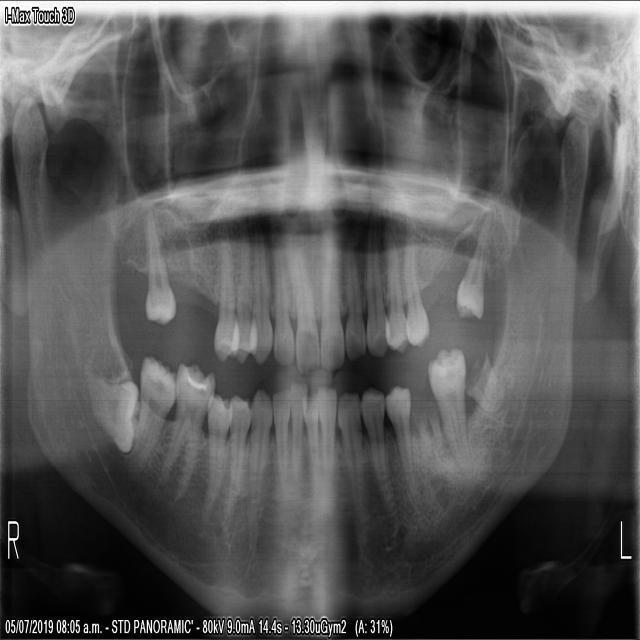LCD: (334, 382, 366, 539)
LCU: (361, 216, 389, 361)
LID: (314, 375, 339, 491), (298, 384, 322, 490)
LIU: (316, 214, 345, 379), (339, 218, 368, 370)
LMD: (423, 337, 482, 482)
LMU: (451, 184, 500, 330)
LPMD: (355, 377, 400, 529), (380, 374, 424, 510)
LPMU: (400, 218, 430, 357), (382, 221, 409, 357)
RCD: (244, 379, 274, 528)
RCU: (246, 228, 274, 368)
RID: (268, 377, 292, 508), (285, 373, 307, 497)
RIU: (281, 225, 321, 377), (268, 240, 296, 372)
RMD: (149, 349, 219, 516), (124, 346, 177, 483), (84, 360, 140, 465)
RMU: (138, 195, 178, 330)
RPMD: (196, 380, 235, 527), (223, 383, 253, 519)
RPMU: (227, 228, 258, 371), (210, 227, 240, 366)
